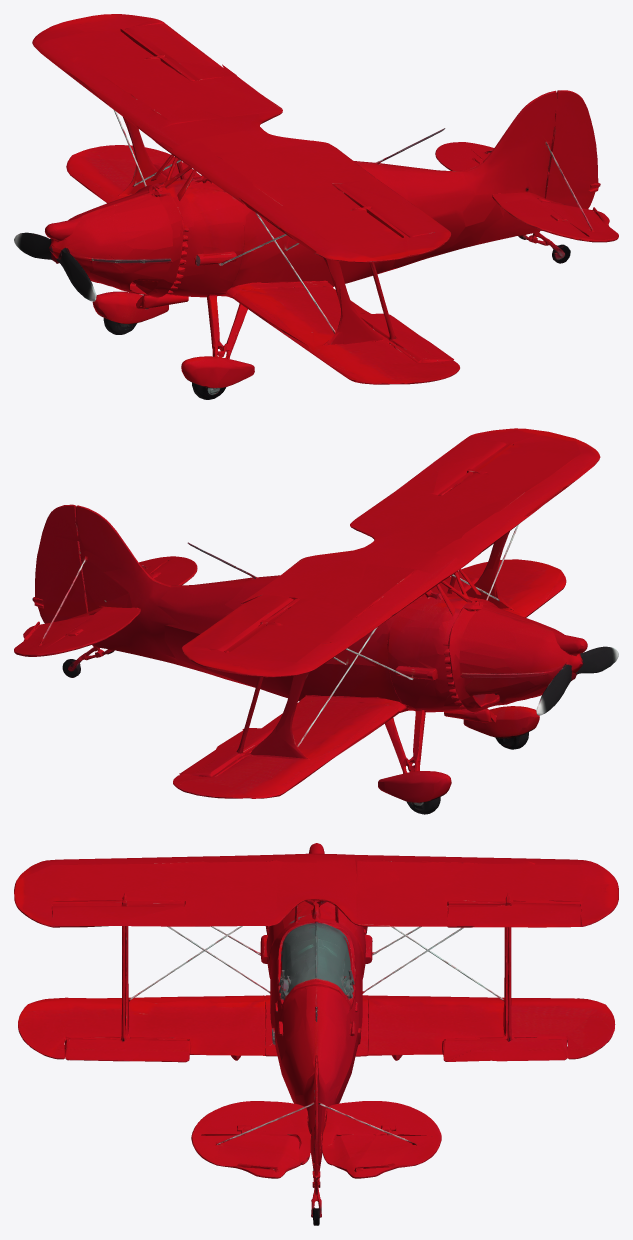
The model's file is flugzeug.glb.
The picture shows the model from 3 angles, top to bottom: view 1: azimuth 30°, elevation 25°; view 2: azimuth 150°, elevation 25°; view 3: azimuth 270°, elevation 25°; orthographic projection. The views are drawn at different scales.
Size of the model in its own units: 1.87 by 0.708 by 1.9.
Materials: 1 (1 with a texture image).
